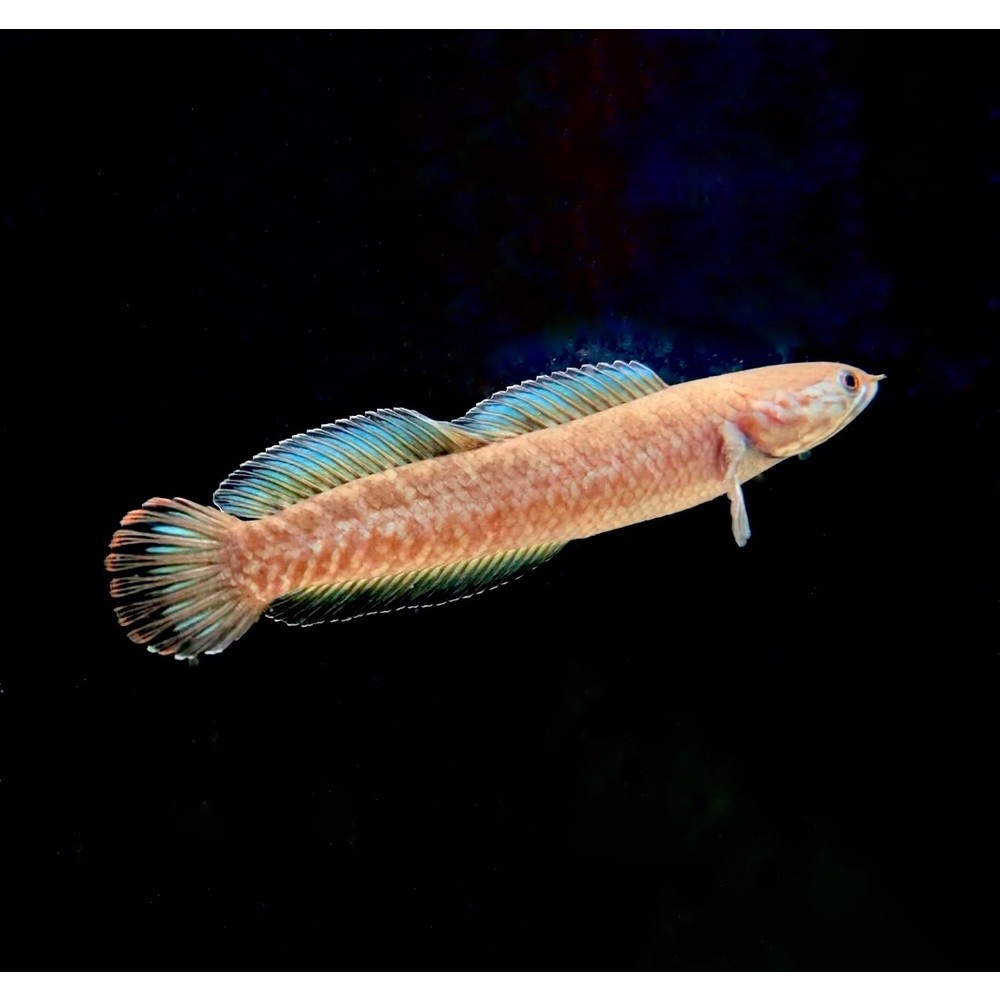Fish: (64, 317, 910, 689)
